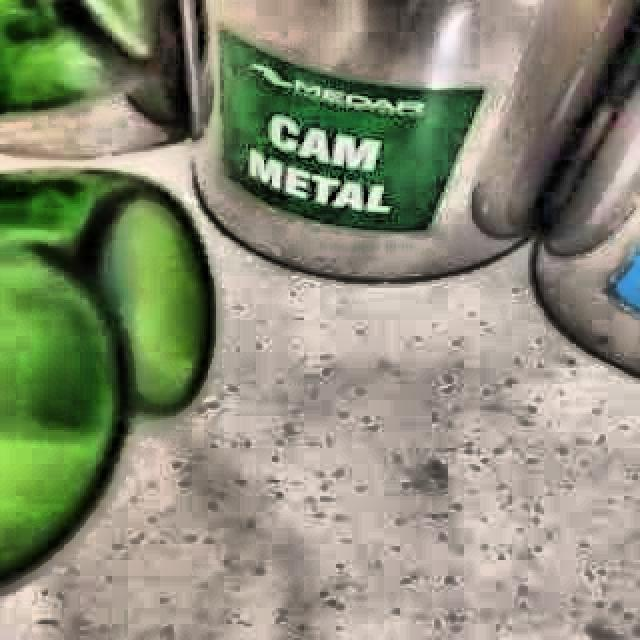glass: (0, 172, 213, 583)
